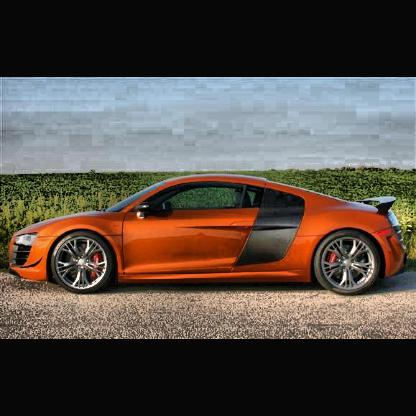Audi R8 Coupe 2012: (11, 174, 408, 296)
